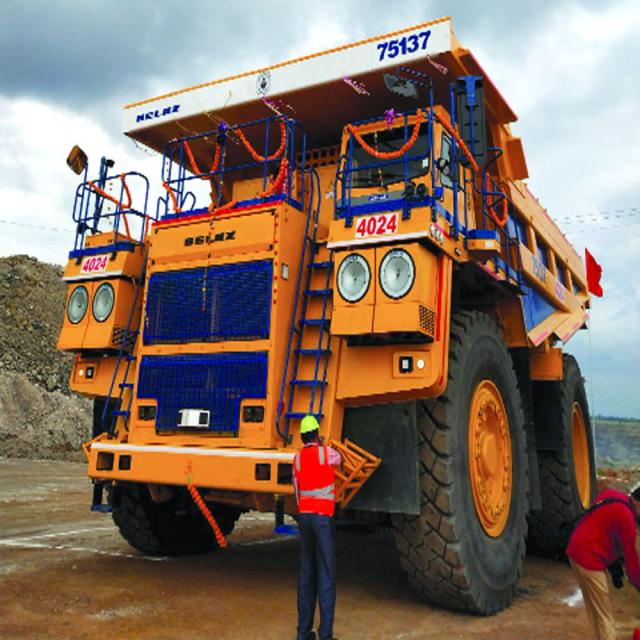dump_truck: (49, 14, 609, 618)
